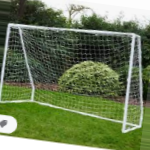goals: (1, 20, 148, 135)
